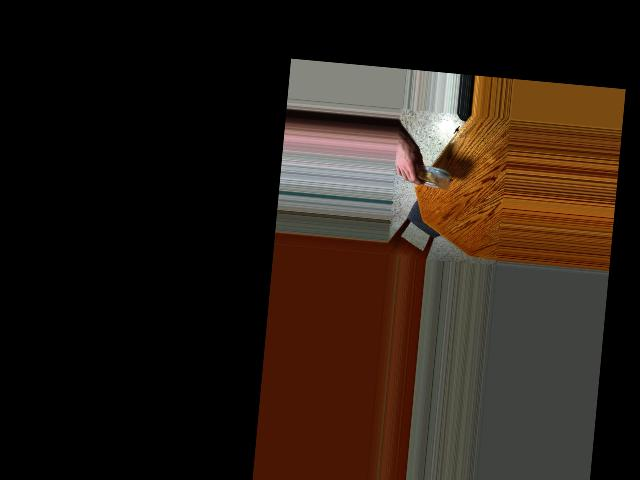cheese: (403, 146, 453, 198)
